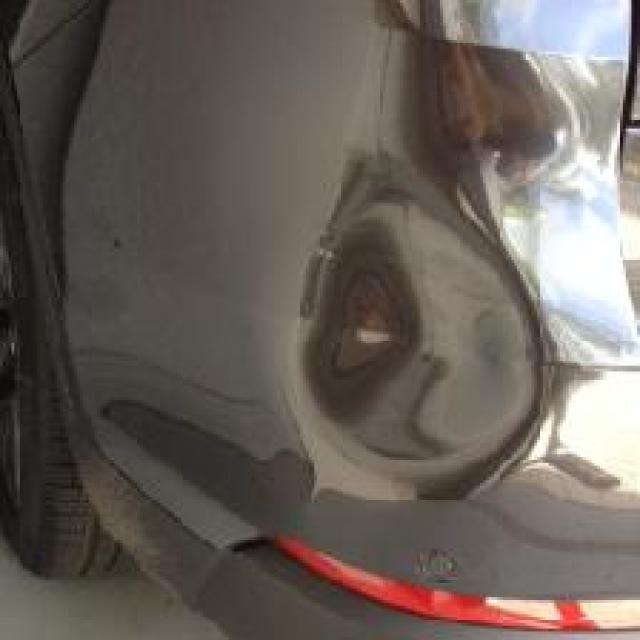bumper_dent_moderate: (306, 37, 546, 474)
